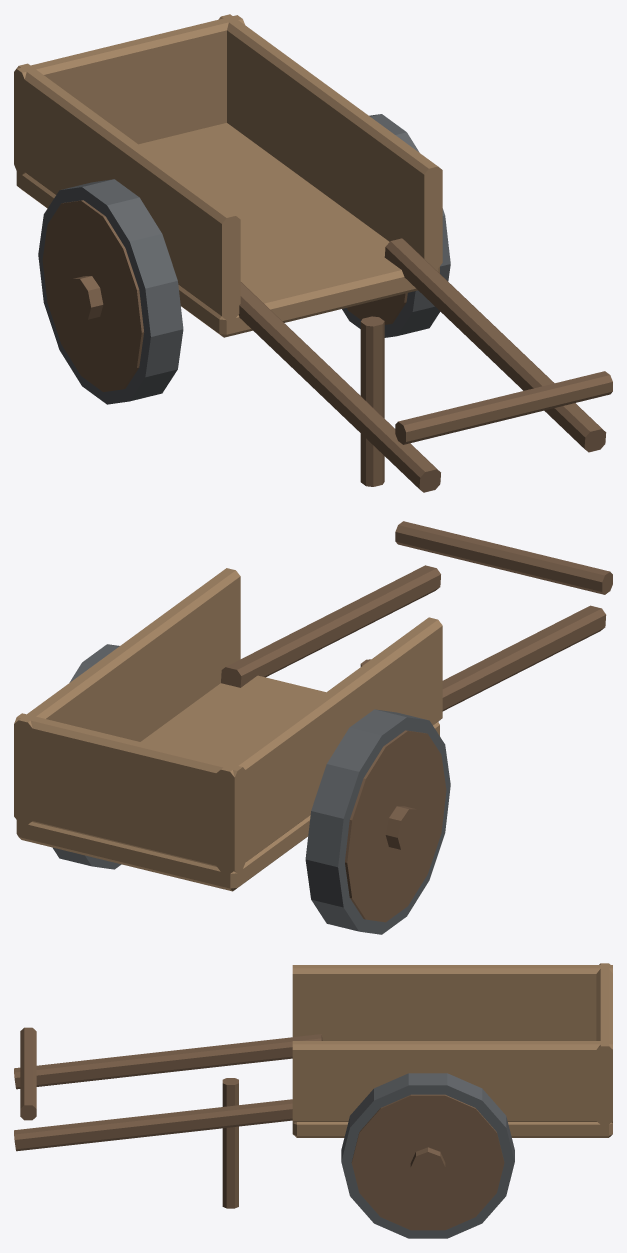
The model's file is handcart.glb.
The picture shows the model from 3 angles, top to bottom: view 1: azimuth 30°, elevation 25°; view 2: azimuth 150°, elevation 25°; view 3: azimuth 270°, elevation 25°; orthographic projection. The views are drawn at different scales.
Parts seen in each view (by area): view 1: handcart; view 2: handcart; view 3: handcart.
Part boxes in pixels (x1,y1,x2,y2): handcart: (14,14,612,492); handcart: (14,521,612,934); handcart: (14,963,612,1238).
Bounding box in the file's own units: 1.42 × 1.07 × 2.9.
